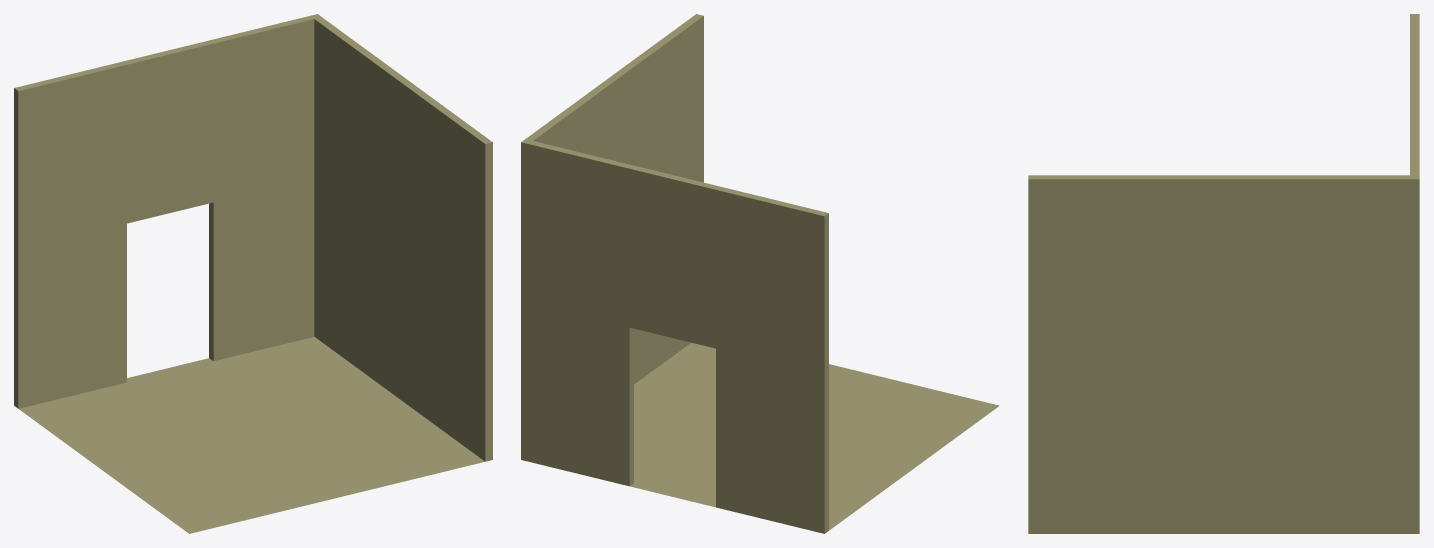
Rendered from HpolyFacCornerSDoor01.glb.
3 views of the same model, side by side, from view 1: azimuth 30°, elevation 25°; view 2: azimuth 150°, elevation 25°; view 3: azimuth 270°, elevation 25° (orthographic). The views are drawn at different scales.
Visible parts, largest first — view 1: HpolyFacCornerSDoor01-col; view 2: HpolyFacCornerSDoor01-col; view 3: HpolyFacCornerSDoor01-col.
Boxes of the visible parts, x1,y1,x2,y2 form: HpolyFacCornerSDoor01-col: (14, 14, 492, 533); HpolyFacCornerSDoor01-col: (521, 14, 999, 533); HpolyFacCornerSDoor01-col: (1028, 14, 1419, 533).
Size of the model in its own units: 4 by 4 by 4.
